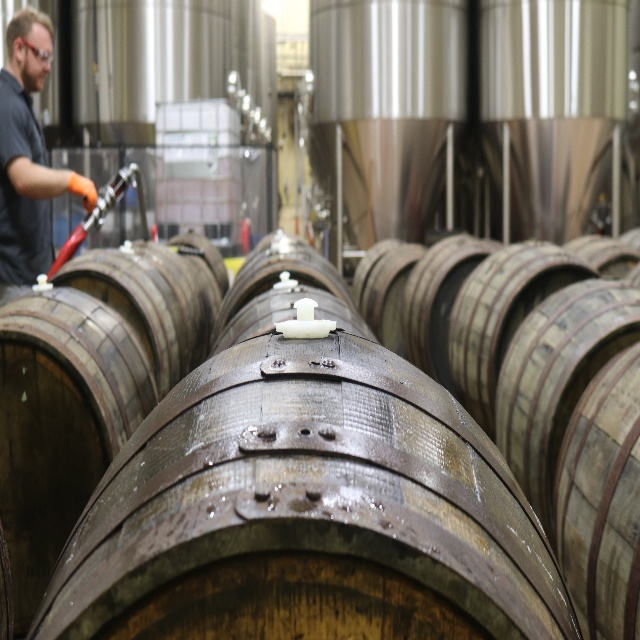Guantes: (69, 166, 99, 215)
